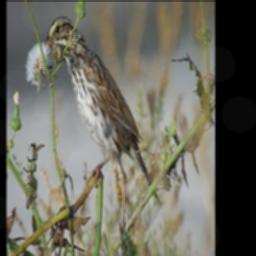Sparrow: (43, 14, 160, 202)
